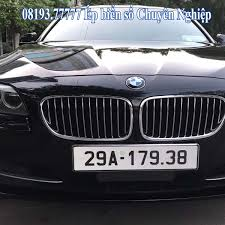number-plate: (74, 147, 197, 168)
